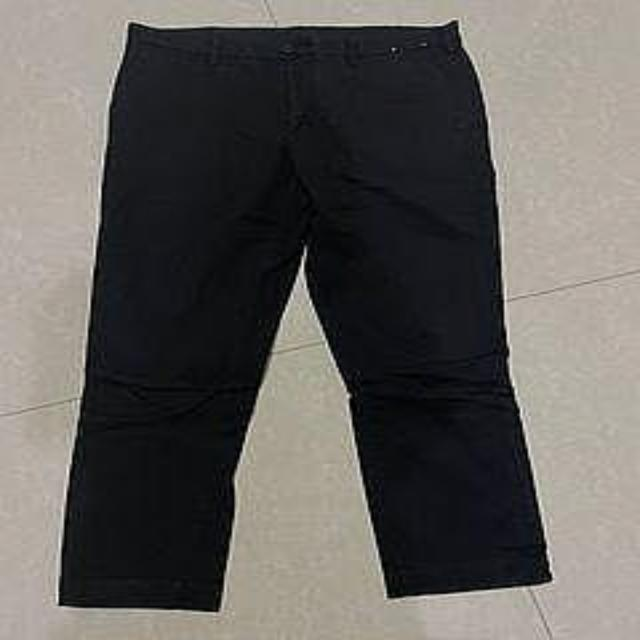TROUSER: (50, 17, 573, 621)
